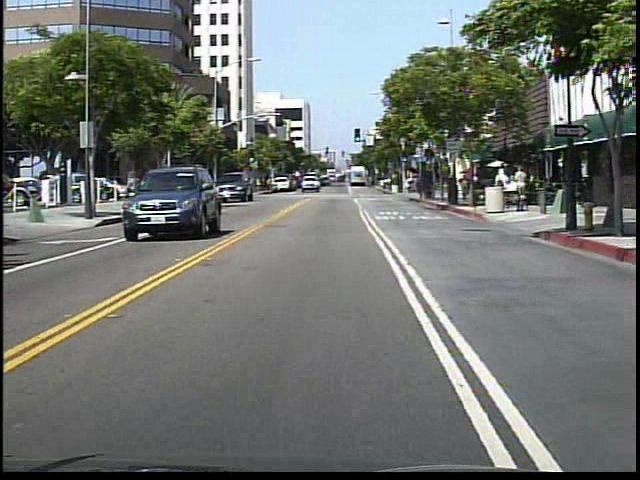person: (458, 173, 473, 204), (263, 171, 276, 198)
